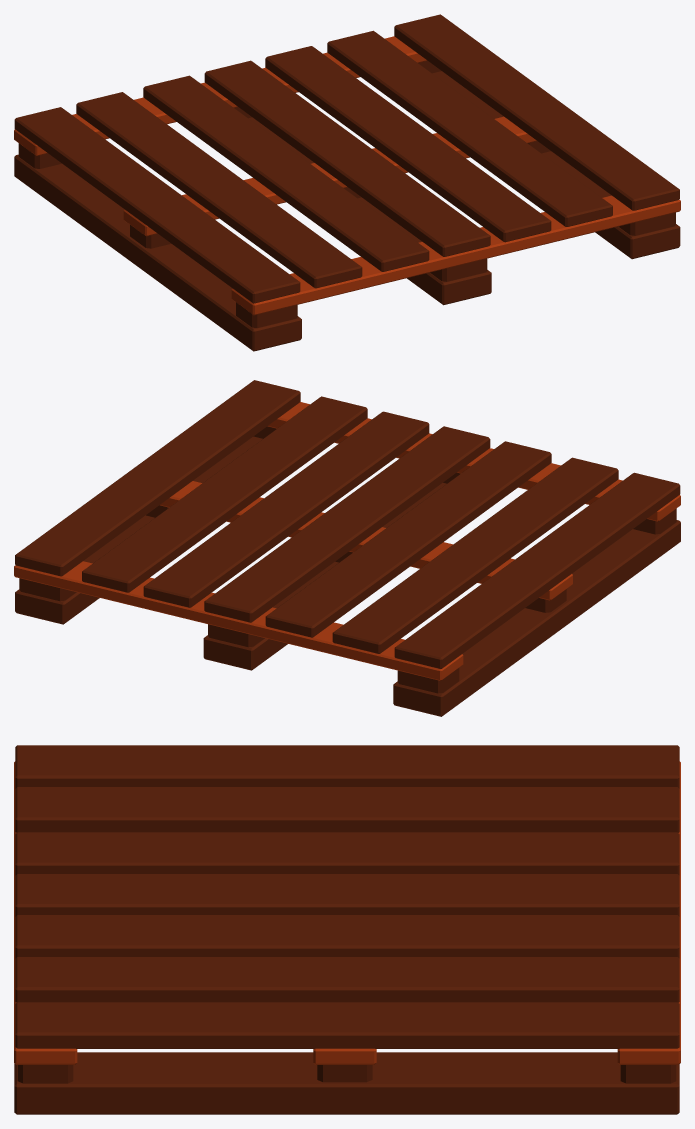
The model's file is pallet.glb.
The picture shows the model from 3 angles, top to bottom: view 1: azimuth 30°, elevation 25°; view 2: azimuth 150°, elevation 25°; view 3: azimuth 270°, elevation 25°; orthographic projection. The views are drawn at different scales.
Parts seen in each view (by area): view 1: Pallet; view 2: Pallet; view 3: Pallet.
Part boxes in pixels (bbox=[...]): Pallet: bbox=[14, 14, 680, 351]; Pallet: bbox=[14, 380, 680, 716]; Pallet: bbox=[14, 745, 680, 1114].
Bounding box in the file's own units: 1.2 × 0.1585 × 1.17.
